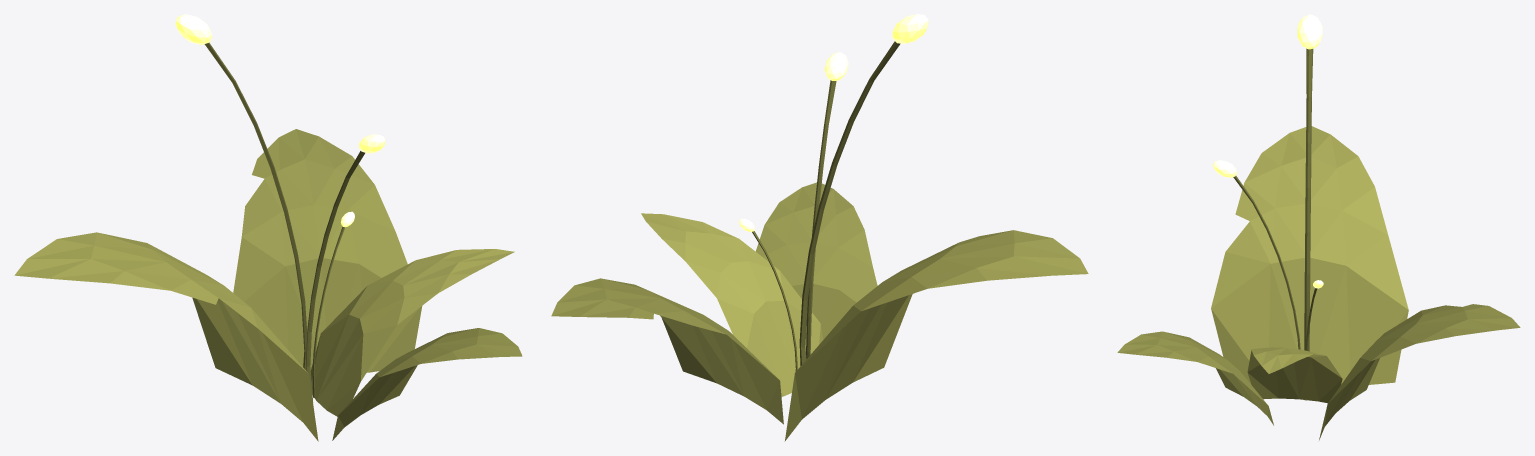
The model's file is SFHW_Plant_002.fbx.
3 views of the same model, side by side, from view 1: azimuth 30°, elevation 25°; view 2: azimuth 150°, elevation 25°; view 3: azimuth 270°, elevation 25° (orthographic). The views are drawn at different scales.
Visible parts, largest first — view 1: SFHW_Plant_002; view 2: SFHW_Plant_002; view 3: SFHW_Plant_002.
Part boxes in pixels (x1,y1,x2,y2): SFHW_Plant_002: [14, 14, 522, 441]; SFHW_Plant_002: [551, 14, 1088, 441]; SFHW_Plant_002: [1117, 14, 1520, 440].
Size of the model in its own units: 39.94 by 32.93 by 36.05.
